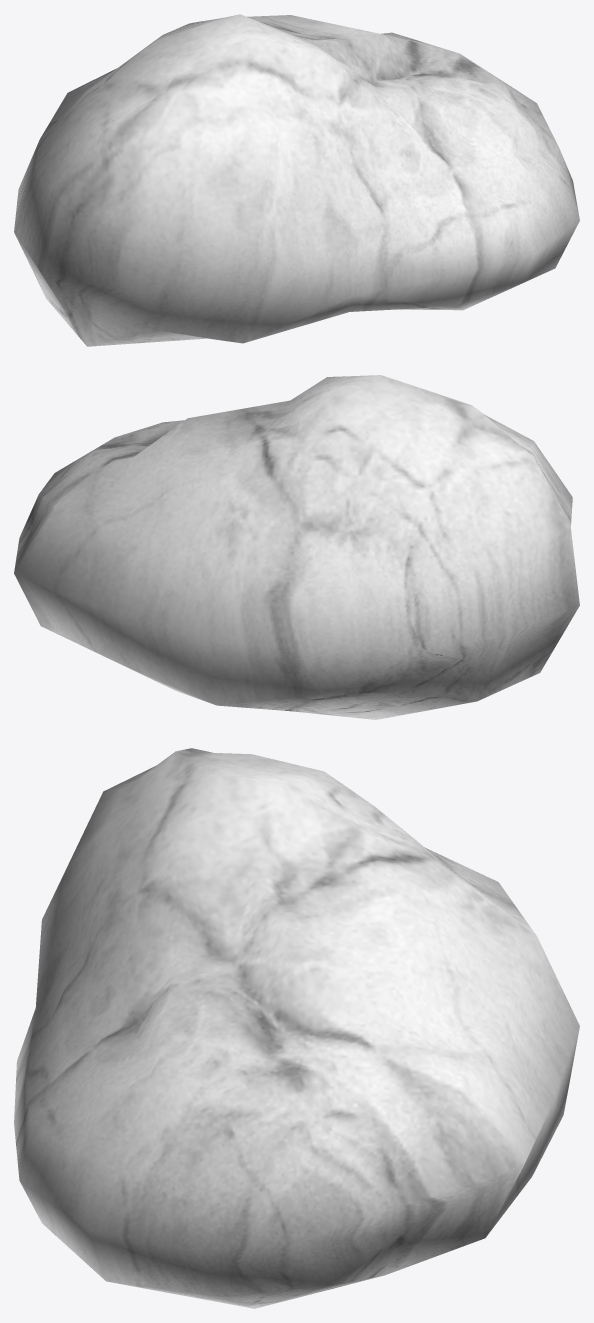
File: Rock-11.fbx
3 renders of one model, top to bottom at view 1: azimuth 30°, elevation 25°; view 2: azimuth 150°, elevation 25°; view 3: azimuth 270°, elevation 25°, orthographic. The views are drawn at different scales.
Parts seen in each view (by area): view 1: Cube.007; view 2: Cube.007; view 3: Cube.007.
Boxes of the visible parts, x1,y1,x2,y2 form: Cube.007: (14, 14, 579, 346); Cube.007: (14, 375, 579, 719); Cube.007: (14, 748, 579, 1308).
Size of the model in its own units: 121 by 67.61 by 85.75.
